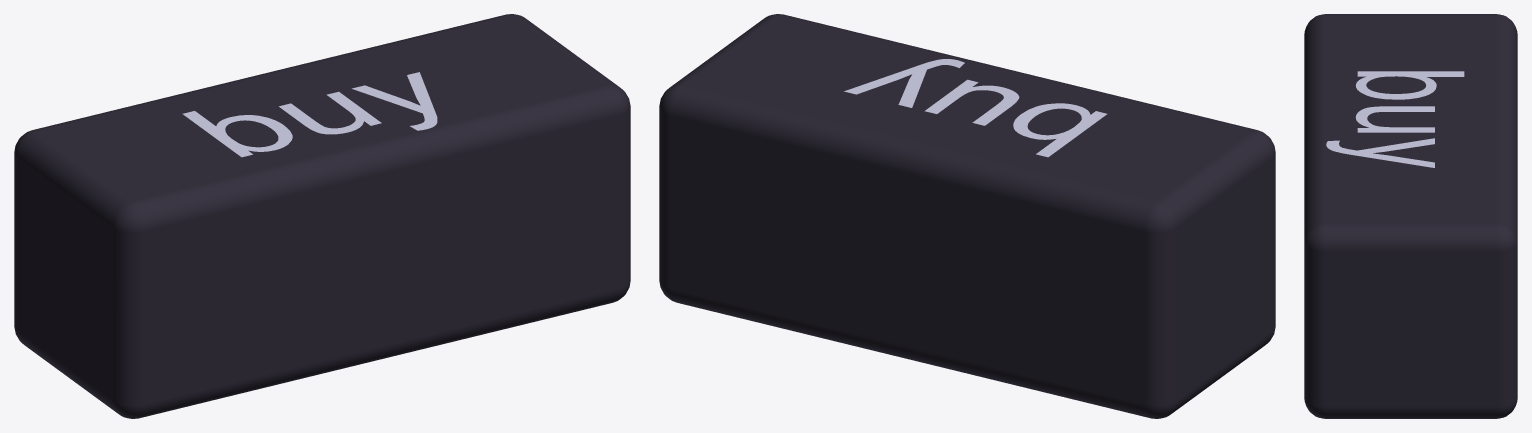
Rendered from buy.glb.
3 views of the same model, side by side, from view 1: azimuth 30°, elevation 25°; view 2: azimuth 150°, elevation 25°; view 3: azimuth 270°, elevation 25° (orthographic). The views are drawn at different scales.
Parts seen in each view (by area): view 1: Cut, Extrude; view 2: Cut, Extrude; view 3: Cut, Extrude.
Boxes of the visible parts, box(x1,y1,x2,y2) form: Cut: box(14, 14, 630, 418); Extrude: box(182, 72, 437, 157); Cut: box(659, 14, 1275, 418); Extrude: box(844, 59, 1107, 157); Cut: box(1304, 14, 1517, 418); Extrude: box(1326, 71, 1464, 167).
Bounding box in the file's own units: 5 × 2 × 2.
